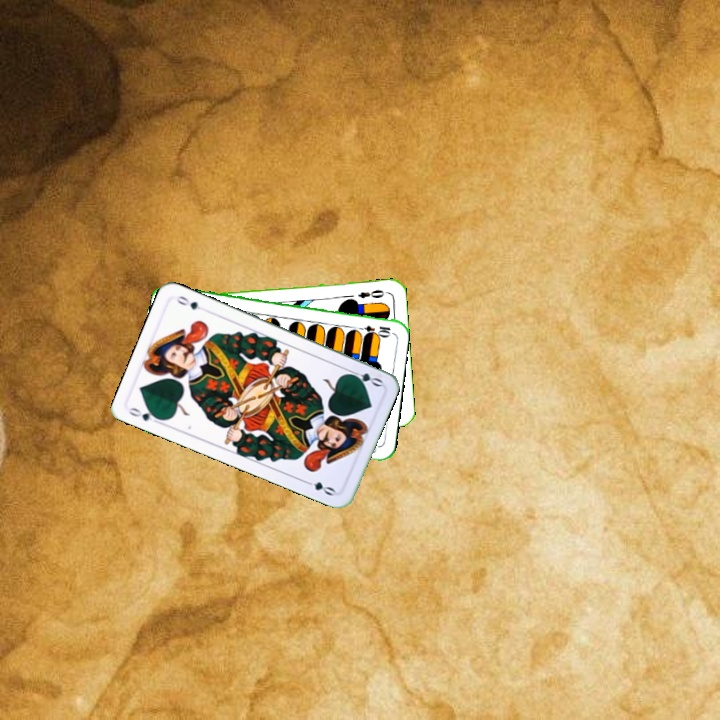E10: (352, 321, 393, 336)
EO: (354, 286, 390, 301)
GO: (125, 403, 165, 427), (344, 366, 385, 389)
